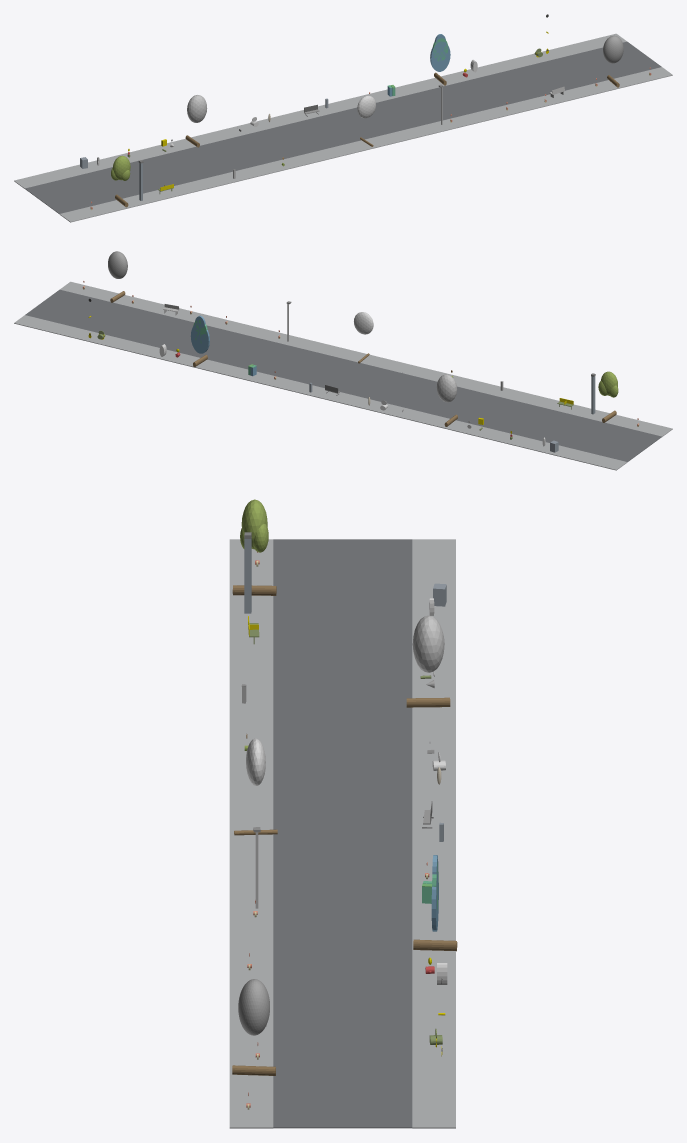
The picture shows the model from 3 angles, top to bottom: view 1: azimuth 30°, elevation 25°; view 2: azimuth 150°, elevation 25°; view 3: azimuth 270°, elevation 25°; orthographic projection. The views are drawn at different scales.
Parts seen in each view (by area): view 1: road_slab, sidewalk_left, sidewalk_right, inst_0015, inst_0016, inst_0013, inst_0012, inst_0014; view 2: road_slab, sidewalk_right, sidewalk_left, inst_0015, inst_0013, inst_0016, inst_0012, inst_0014; view 3: road_slab, sidewalk_left, sidewalk_right, inst_0013, inst_0016, inst_0012, inst_0015, inst_0014.
Part boxes in pixels (x1,y1,x2,y2): road_slab: [25, 41, 661, 213]; sidewalk_left: [59, 67, 672, 222]; sidewalk_right: [14, 33, 626, 188]; inst_0015: [430, 34, 450, 85]; inst_0016: [603, 35, 623, 87]; inst_0013: [185, 95, 207, 147]; inst_0012: [111, 155, 130, 207]; inst_0014: [357, 95, 375, 146]; road_slab: [25, 289, 661, 462]; sidewalk_right: [14, 315, 627, 470]; sidewalk_left: [60, 281, 672, 436]; inst_0015: [190, 315, 209, 367]; inst_0013: [436, 374, 457, 426]; inst_0016: [108, 251, 127, 302]; inst_0012: [598, 371, 618, 422]; inst_0014: [354, 312, 373, 363]; road_slab: [273, 539, 412, 1128]; sidewalk_left: [229, 539, 273, 1128]; sidewalk_right: [412, 539, 455, 1128]; inst_0013: [406, 615, 450, 707]; inst_0016: [232, 979, 275, 1075]; inst_0012: [232, 499, 276, 595]; inst_0015: [413, 855, 457, 951]; inst_0014: [234, 738, 277, 835].
Bounding box in the file's own units: 80 × 6.08 × 13.08.
